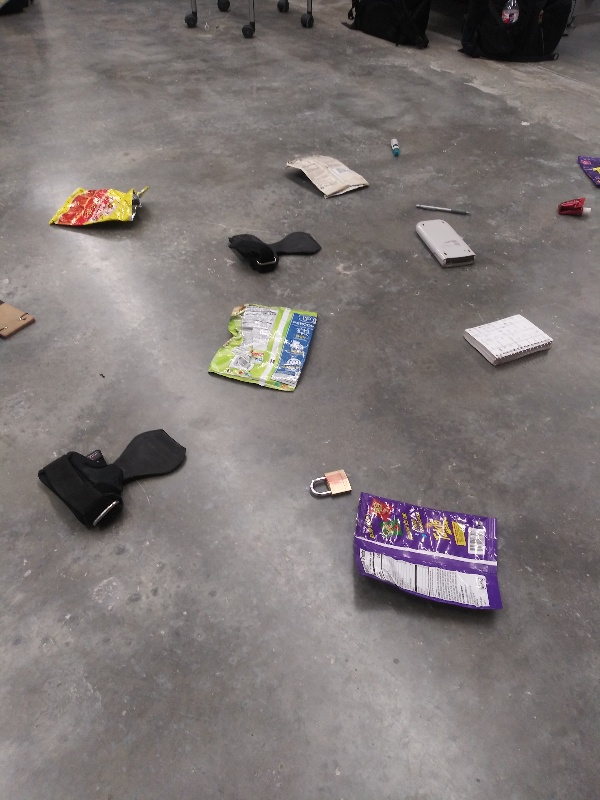bag: (347, 488, 510, 615), (206, 295, 324, 400), (45, 183, 152, 231), (282, 151, 376, 200), (573, 149, 600, 191)
